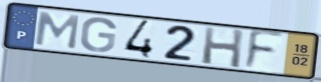2: (161, 25, 199, 64)
4: (122, 19, 157, 61)
F: (242, 28, 286, 72)
G: (78, 16, 119, 54)
H: (200, 25, 245, 70)
M: (33, 10, 82, 51)
